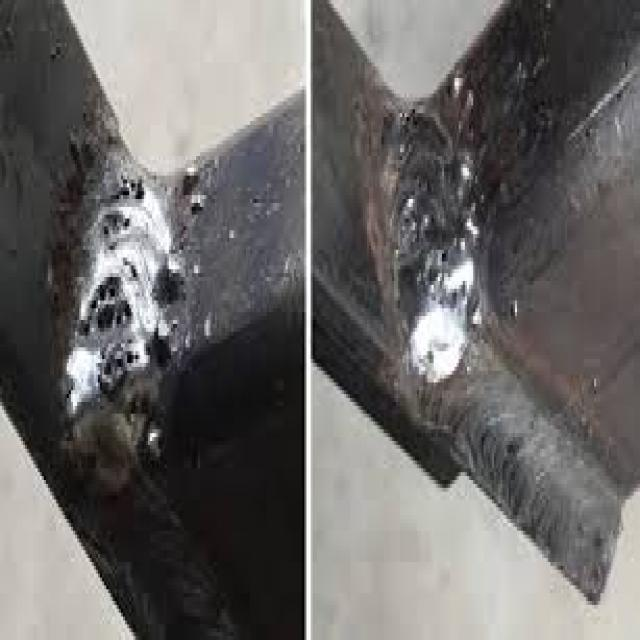Bad Weld: (48, 121, 190, 496), (373, 94, 488, 370)
Defect: (77, 269, 129, 336), (94, 332, 144, 394), (95, 203, 132, 238), (112, 168, 142, 195)
